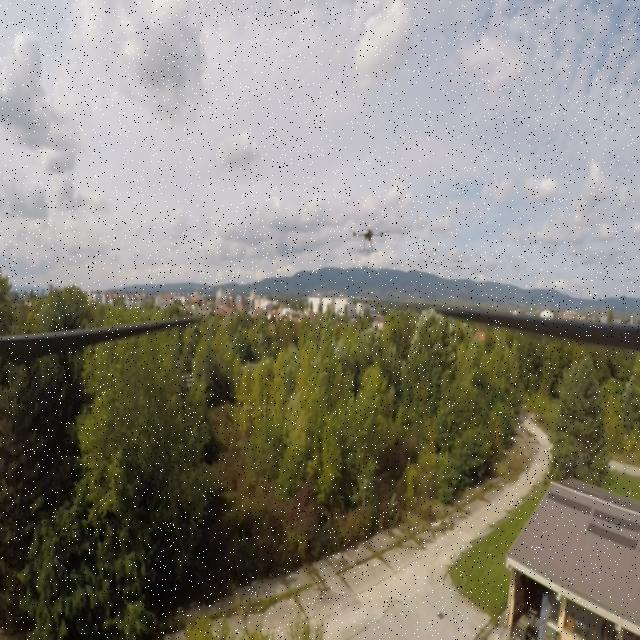UAV: (341, 220, 396, 258)
